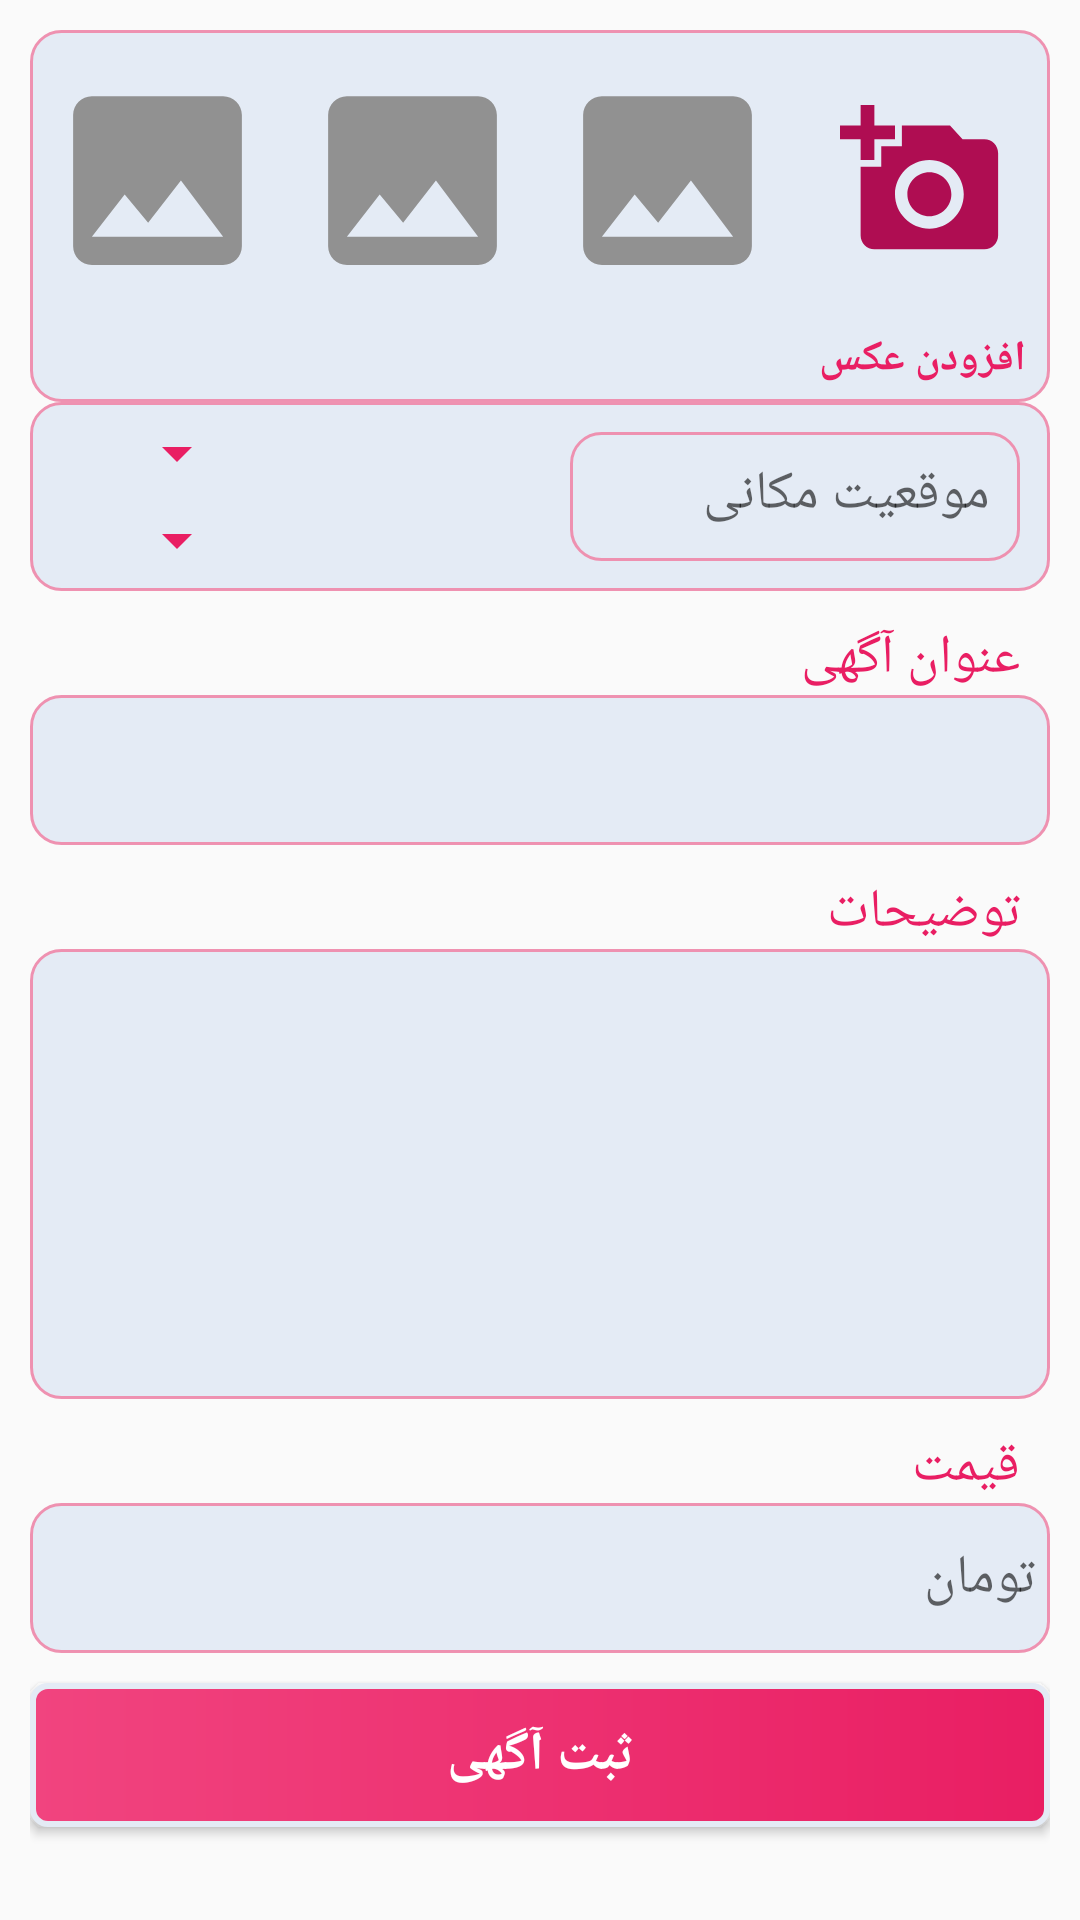

Screen size 1080x1920. Icon name, then its box in pixels as [left=x1, top=y1, right=x2, bottom=y2]:
add photo: [left=840, top=105, right=999, bottom=250]
